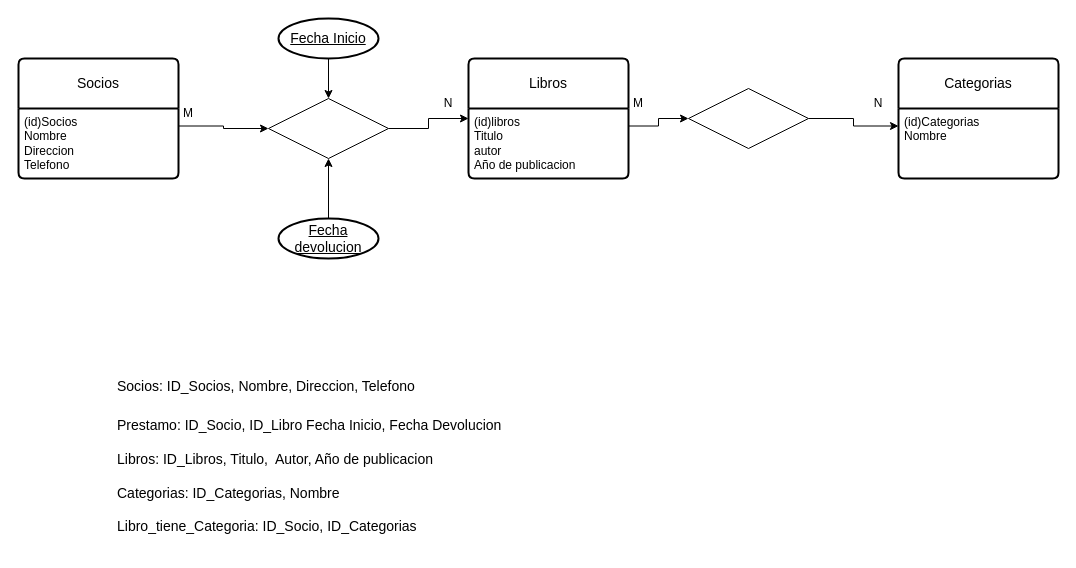
This 1076x568 diagram has some shape labels left out. Here are the shapes that lost their labels. From the top down, the centre of each, then its label:
point (328, 128): prestamo
point (748, 118): Clasificados
